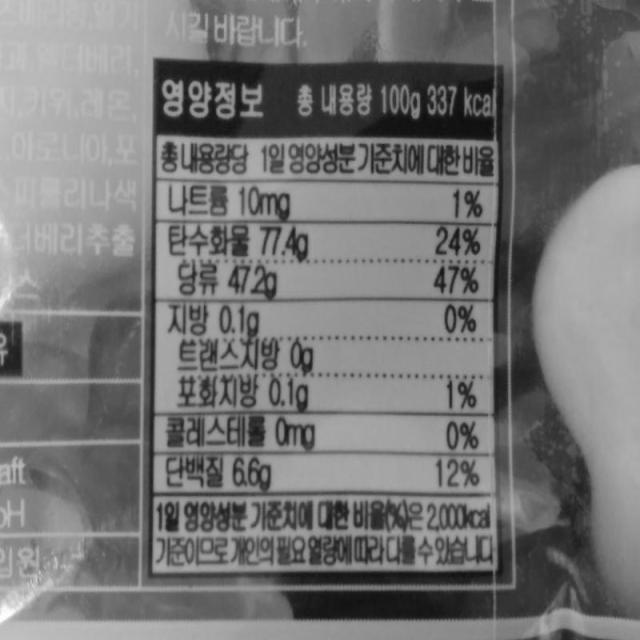Nutrition Label: (158, 59, 505, 582)
